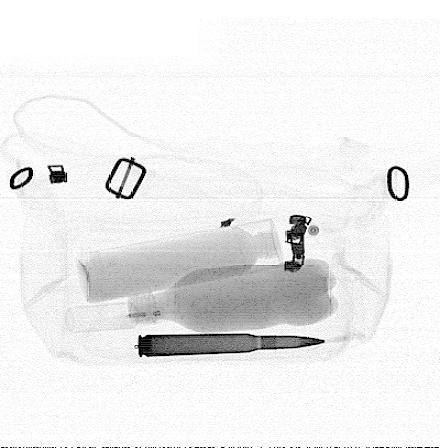Bullet: (136, 333, 328, 358)
